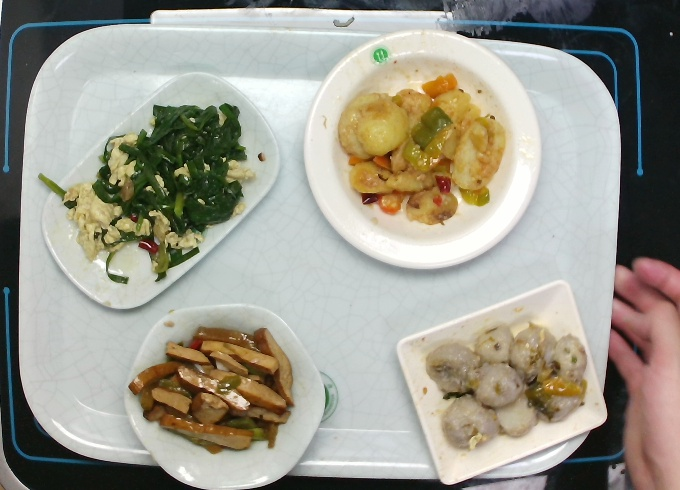WCQzf-Bai_Se_Si_Fang_Die: (388, 275, 609, 486)
WCQzf-Hua_Duo_Wan: (121, 295, 330, 488)
WCQzf-Kuan_Bian_Yuan_Die: (298, 26, 547, 278)
WCQzf-Tuo_Yuan_Pan: (34, 64, 284, 319)
